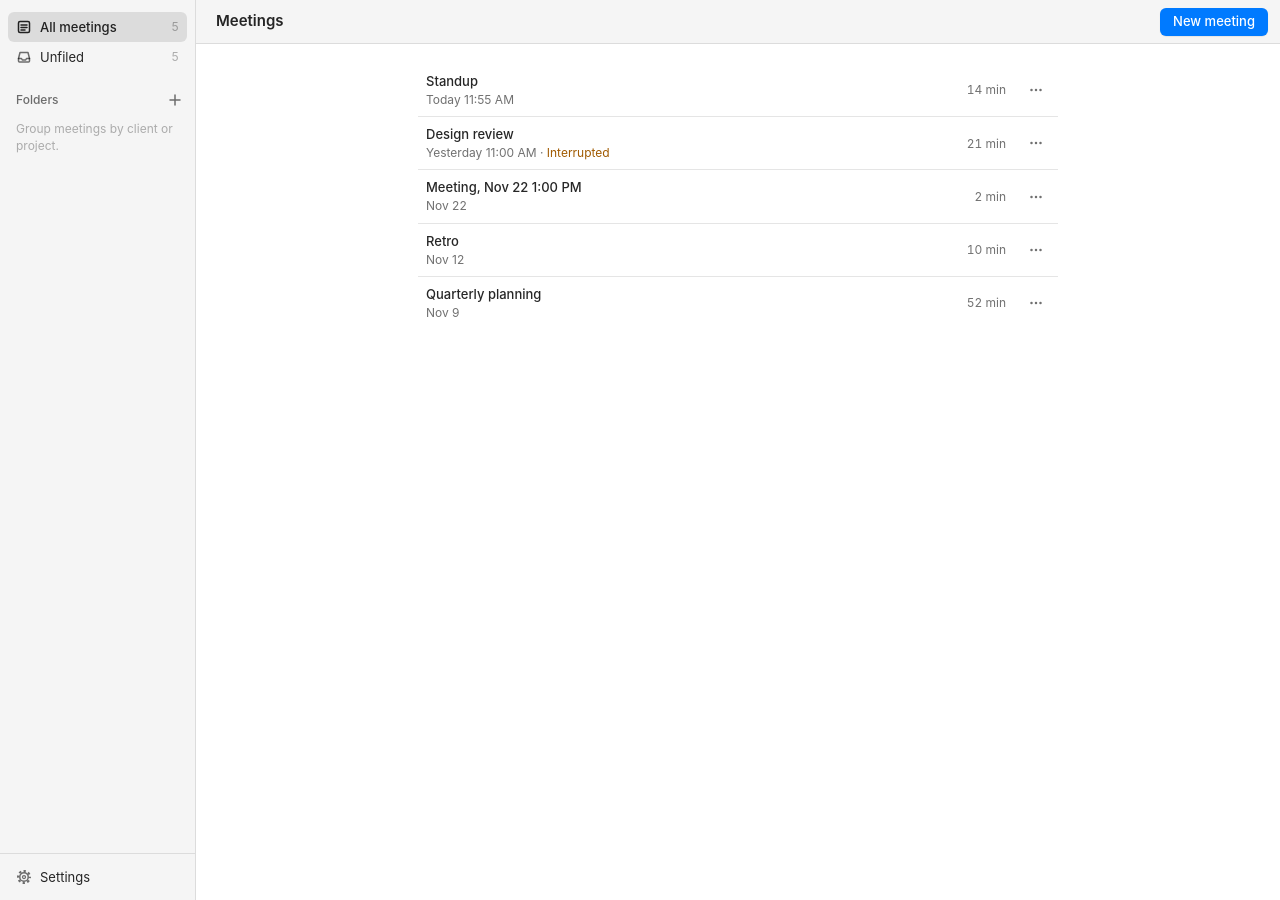
Test case: the title › Enter saves the new title and returns to the notes
Click the button "Retro Nov 12 10 min" at (442, 241), box [418,224,1014,276]
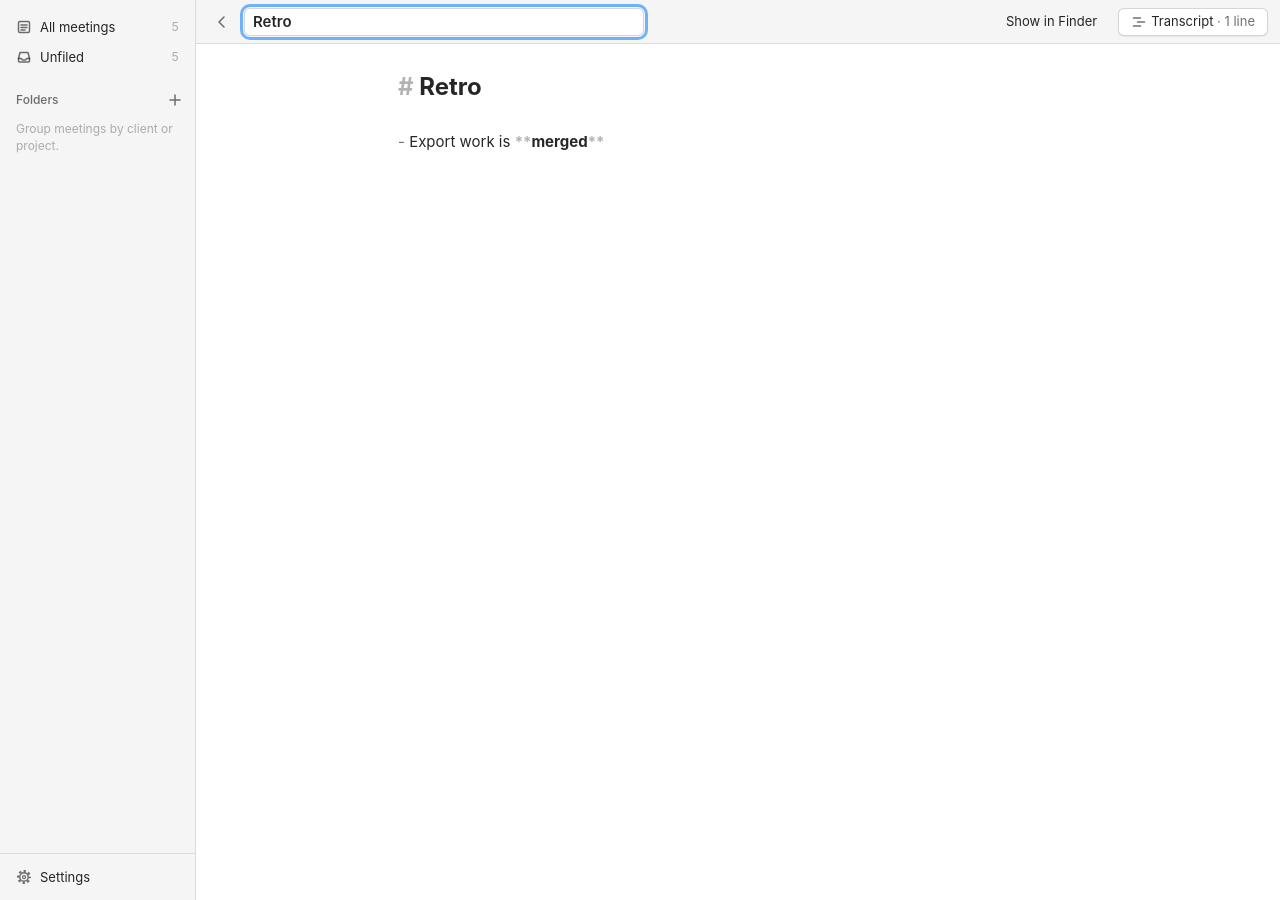
Replace the text in the field named "Meeting title" with "Weekly sync" at (444, 22), box [244,8,644,36]
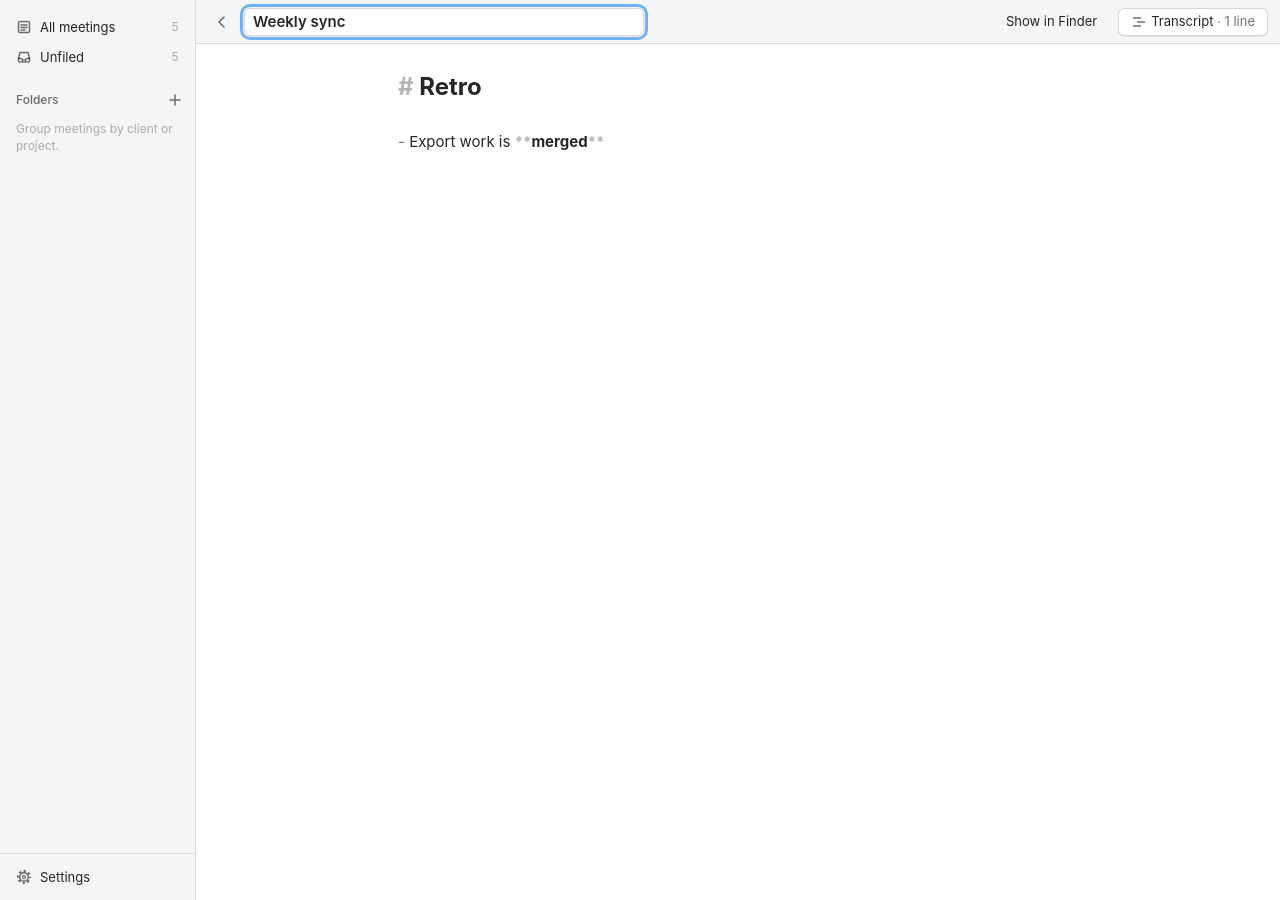
Press Enter in the field named "Meeting title", box [244,8,644,36]
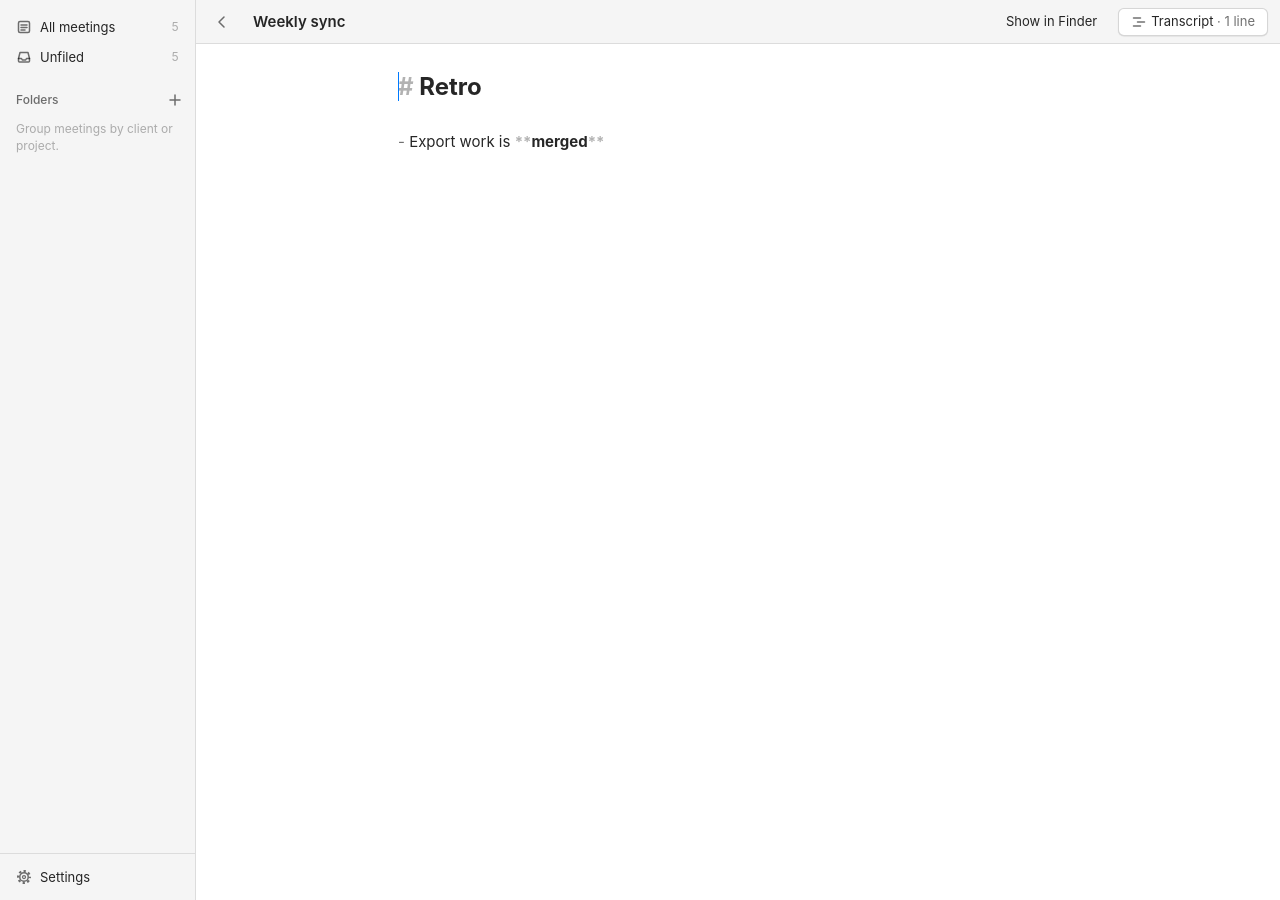
Click the button named "Back" at (222, 22), box [208,8,236,36]
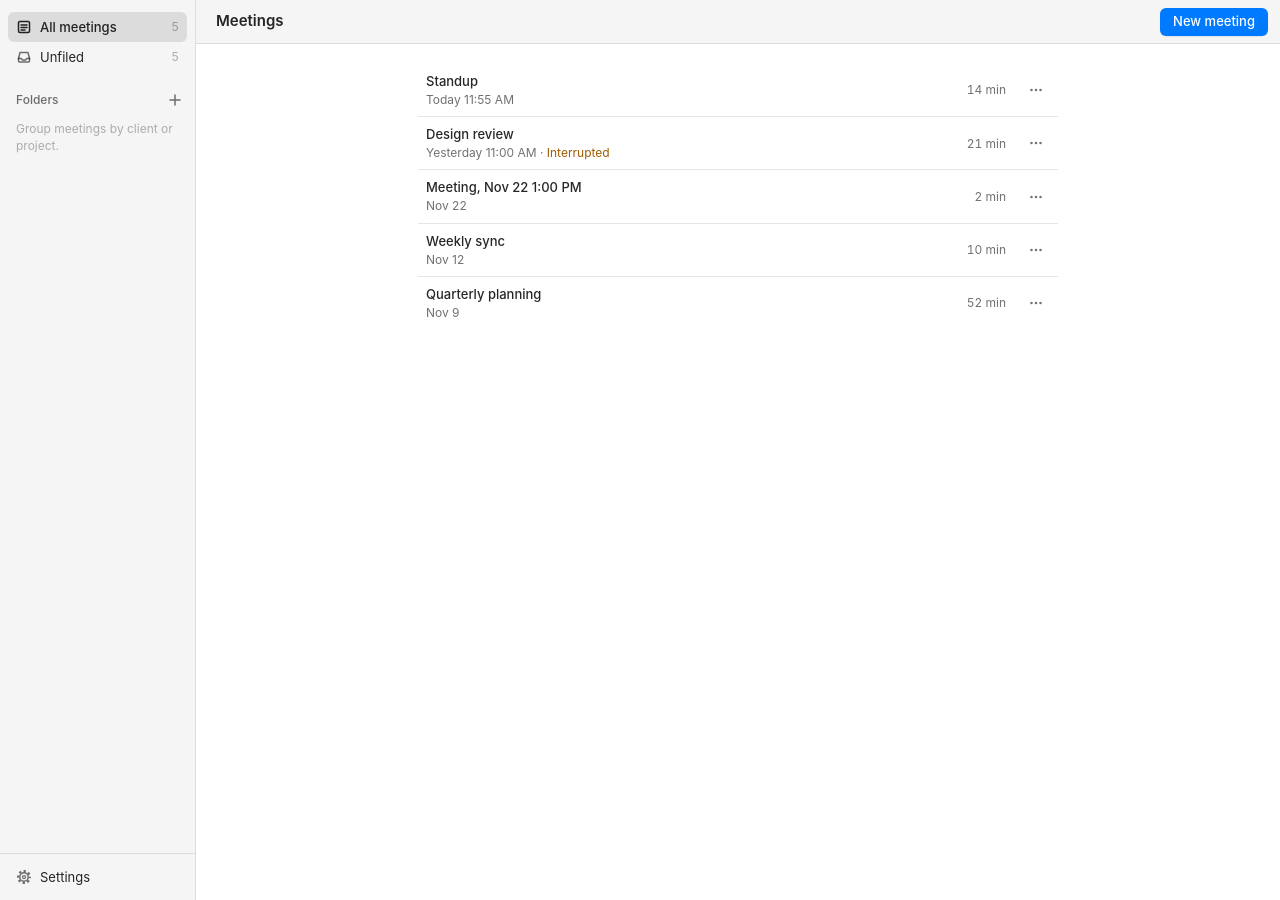
Expected: the button "Weekly sync Nov 12 10 min" is shown, [418,224,1014,276]
